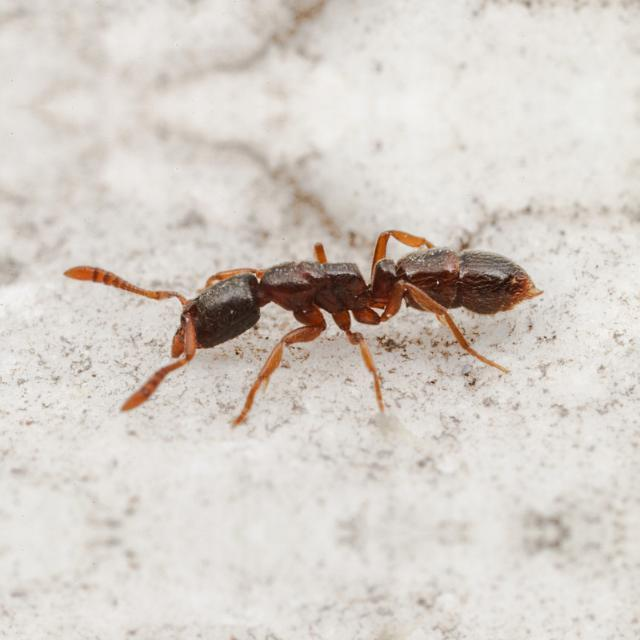Ponera: (120, 215, 540, 401)
